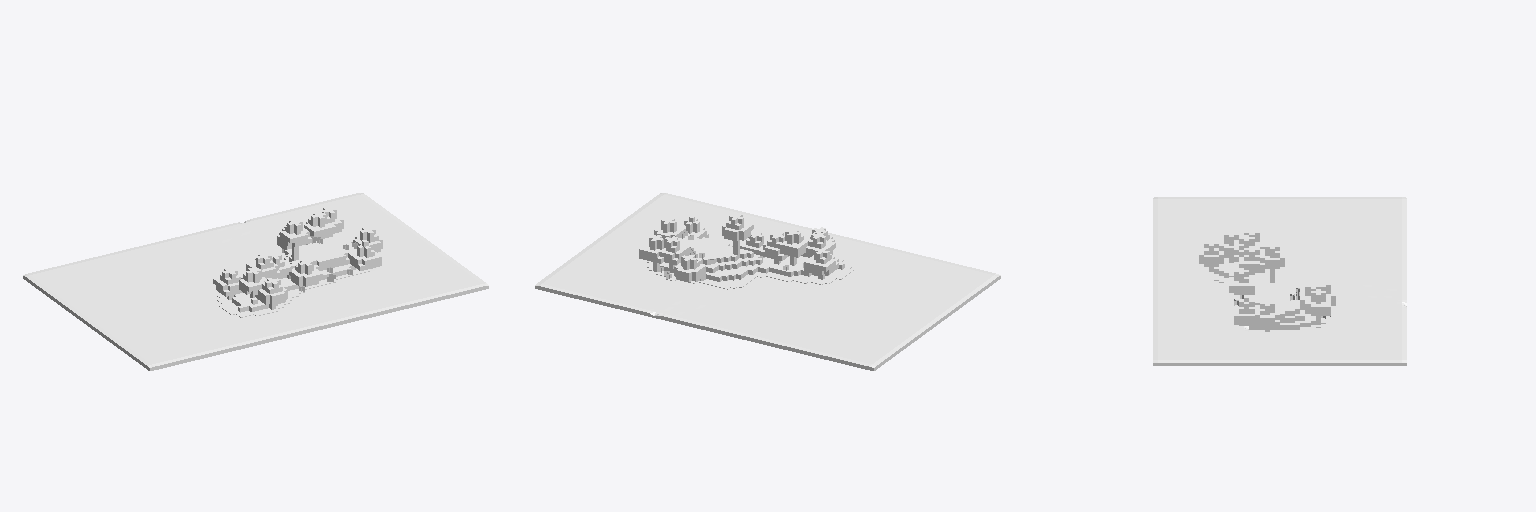
File: level1-1.obj
The picture shows the model from 3 angles: view 1: azimuth 30°, elevation 25°; view 2: azimuth 150°, elevation 25°; view 3: azimuth 270°, elevation 25°; orthographic projection.
Parts seen in each view (by area): view 1: unity3d__-339_62_416_to_-263_255_465; view 2: unity3d__-339_62_416_to_-263_255_465; view 3: unity3d__-339_62_416_to_-263_255_465.
Boxes of the visible parts, box(x1,y1,x2,y2) form: unity3d__-339_62_416_to_-263_255_465: box(23, 193, 488, 370); unity3d__-339_62_416_to_-263_255_465: box(535, 193, 1000, 370); unity3d__-339_62_416_to_-263_255_465: box(1153, 197, 1406, 365).
Size of the model in its own units: 77 by 12 by 50.